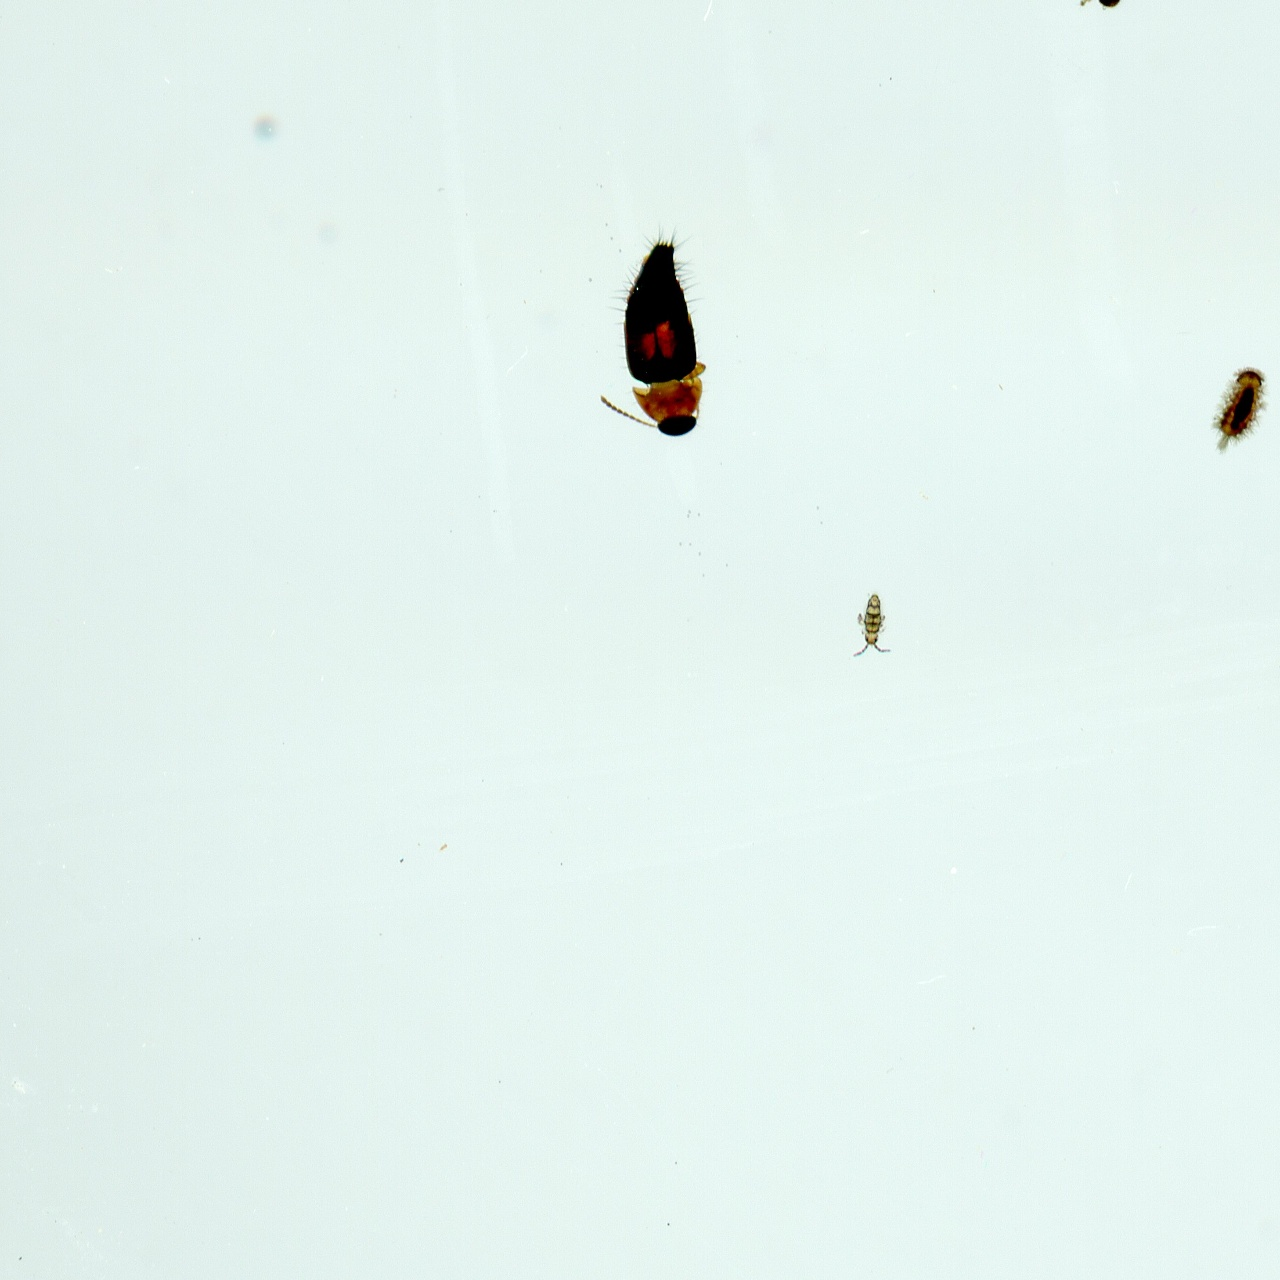arthropod: (604, 223, 714, 455), (1210, 363, 1264, 452), (847, 584, 892, 664), (1063, 0, 1132, 13), (1271, 644, 1280, 696)
